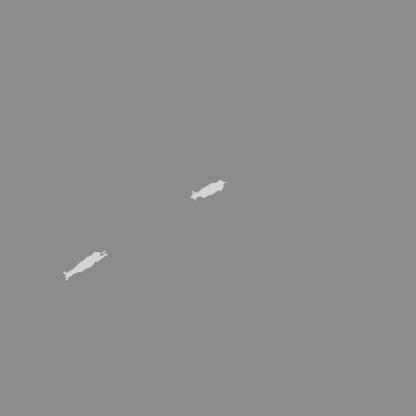rehkitze: (60, 249, 110, 285), (190, 179, 227, 202)
